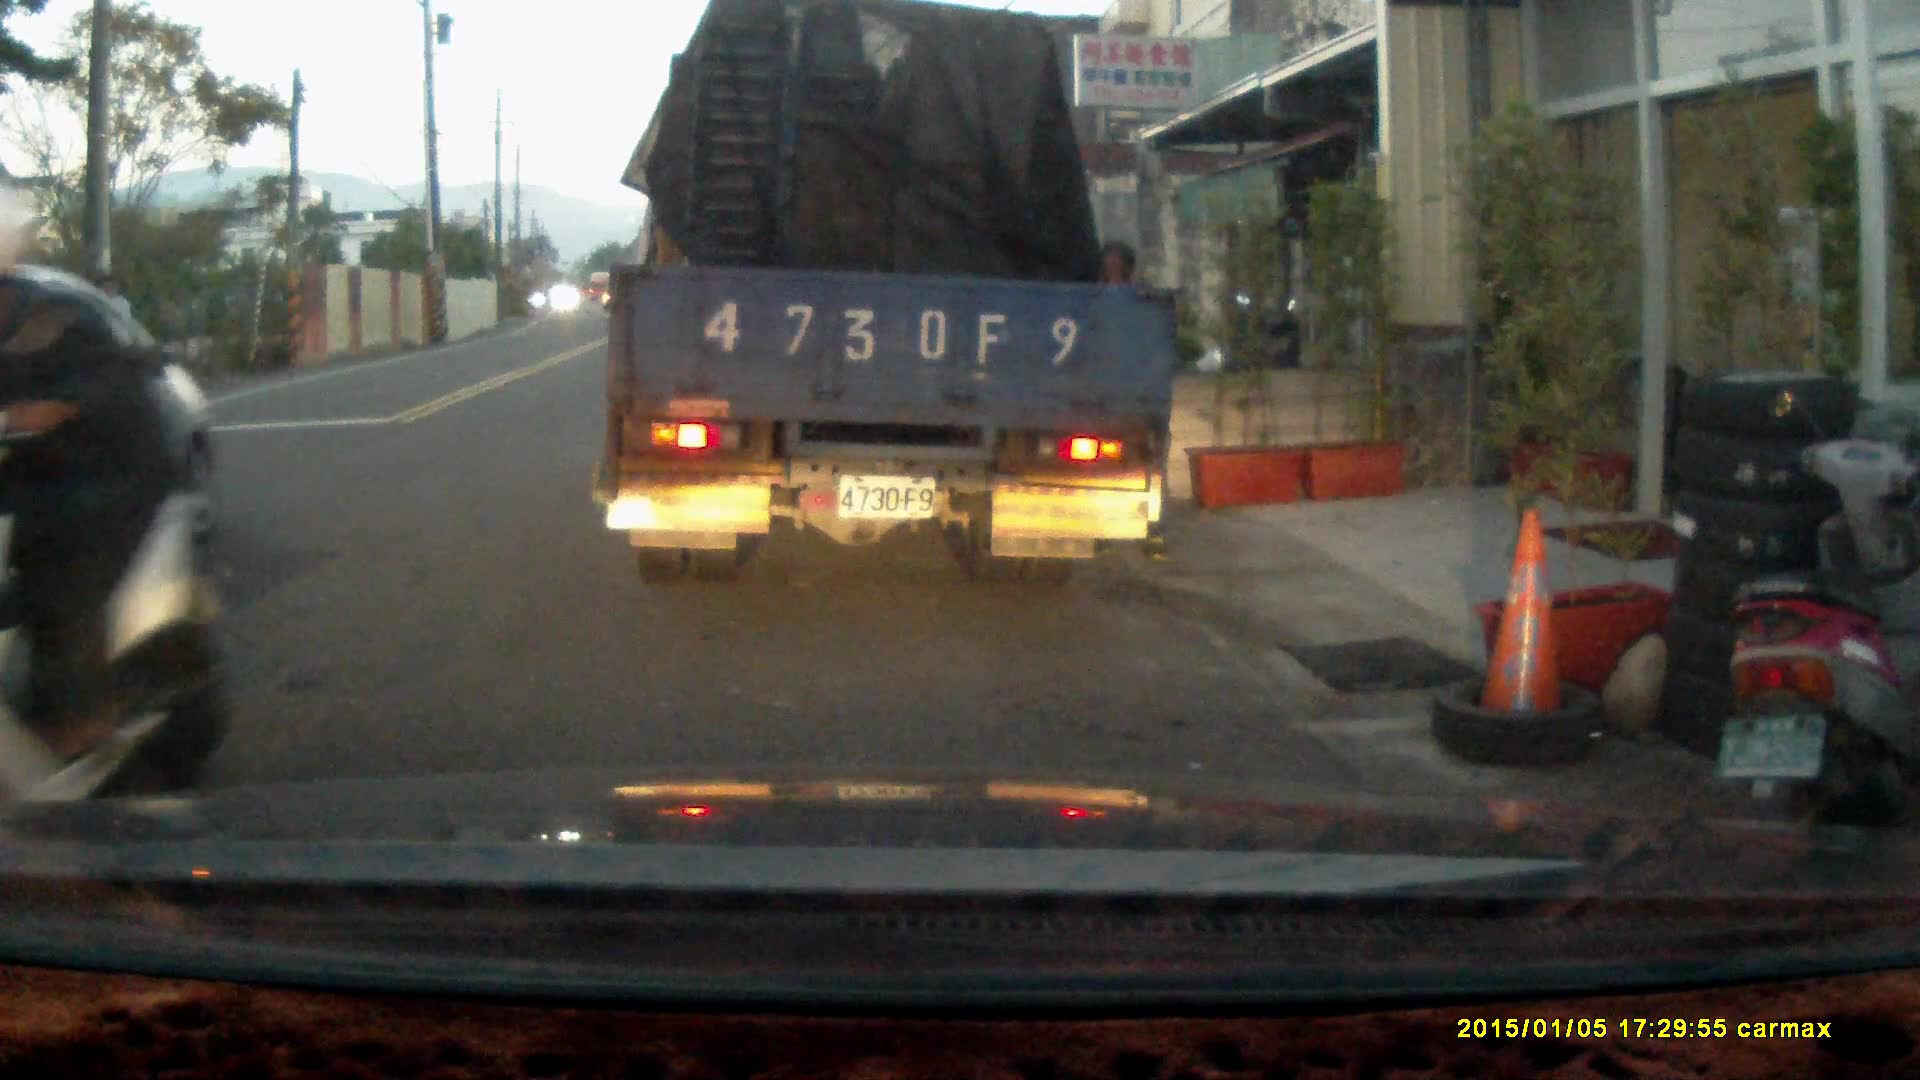pedestrian: (1082, 239, 1183, 567)
rider: (0, 199, 226, 845)
vehicle: (599, 23, 1185, 572), (0, 273, 210, 540)
